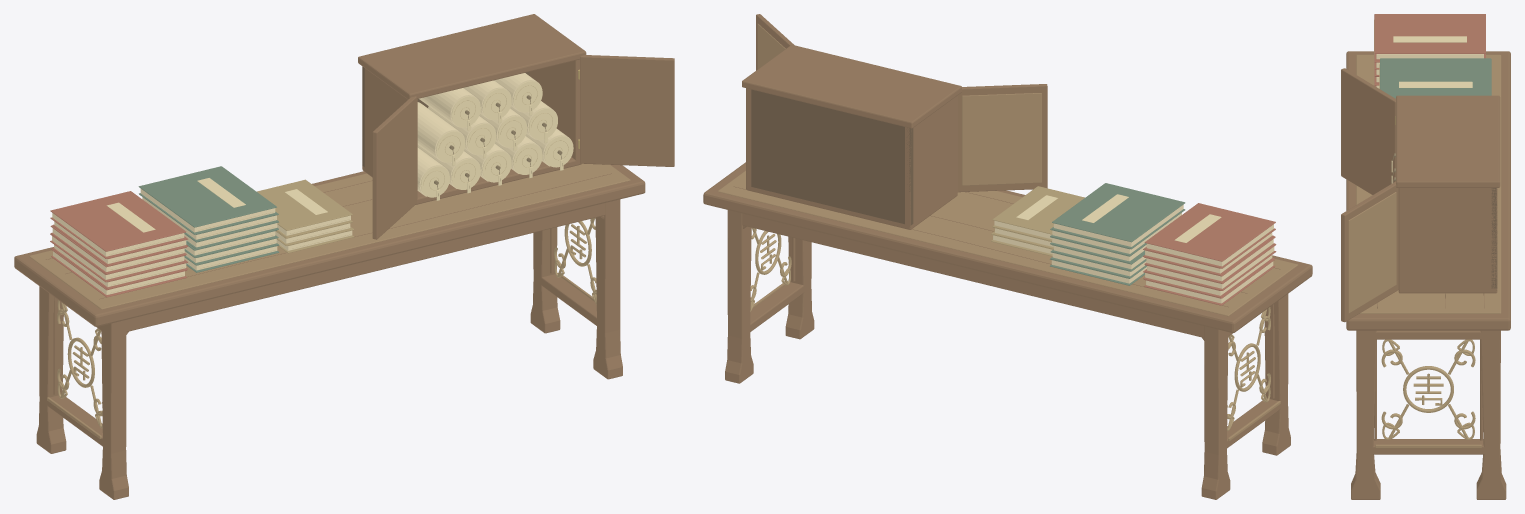
The model's file is writing-table-large-box.glb.
The picture shows the model from 3 angles, left to right: view 1: azimuth 30°, elevation 25°; view 2: azimuth 150°, elevation 25°; view 3: azimuth 270°, elevation 25°; orthographic projection. The views are drawn at different scales.
Visible parts, largest first — view 1: study_writing_table__wood, study_writing_table__paper_fine, study_writing_table__moulding_fine, study_writing_table__label_fine, study_writing_table__book_red_fine, study_writing_table__book_jade_fine, study_writing_table__book_ochre_fine, study_writing_table__carving_fine, study_writing_table__paper_edge_fine, study_writing_table__wood_fine; view 2: study_writing_table__wood, study_writing_table__moulding_fine, study_writing_table__recess, study_writing_table__paper_fine, study_writing_table__book_red_fine, study_writing_table__book_jade_fine, study_writing_table__carving_fine, study_writing_table__book_ochre_fine, study_writing_table__label_fine, study_writing_table__wood_fine; view 3: study_writing_table__wood, study_writing_table__moulding_fine, study_writing_table__book_red_fine, study_writing_table__book_jade_fine, study_writing_table__carving_fine, study_writing_table__label_fine, study_writing_table__paper_fine, study_writing_table__recess, study_writing_table__wood_fine.
Part boxes in pixels (x1,y1,x2,y2): study_writing_table__wood: [14, 14, 674, 499]; study_writing_table__paper_fine: [52, 73, 573, 294]; study_writing_table__moulding_fine: [29, 163, 630, 438]; study_writing_table__label_fine: [106, 81, 573, 232]; study_writing_table__book_red_fine: [50, 191, 188, 297]; study_writing_table__book_jade_fine: [138, 166, 279, 272]; study_writing_table__book_ochre_fine: [257, 179, 354, 253]; study_writing_table__carving_fine: [57, 217, 596, 428]; study_writing_table__paper_edge_fine: [109, 85, 568, 292]; study_writing_table__wood_fine: [46, 173, 611, 394]; study_writing_table__wood: [703, 14, 1312, 499]; study_writing_table__moulding_fine: [718, 24, 1297, 440]; study_writing_table__recess: [751, 89, 913, 225]; study_writing_table__paper_fine: [993, 204, 1274, 303]; study_writing_table__book_red_fine: [1143, 203, 1276, 305]; study_writing_table__book_jade_fine: [1050, 183, 1185, 285]; study_writing_table__carving_fine: [750, 228, 1270, 430]; study_writing_table__book_ochre_fine: [991, 186, 1084, 256]; study_writing_table__label_fine: [1016, 194, 1221, 242]; study_writing_table__wood_fine: [733, 186, 1280, 398]; study_writing_table__wood: [1341, 51, 1510, 499]; study_writing_table__moulding_fine: [1348, 54, 1501, 448]; study_writing_table__book_red_fine: [1374, 14, 1485, 86]; study_writing_table__book_jade_fine: [1380, 58, 1491, 98]; study_writing_table__carving_fine: [1381, 339, 1475, 439]; study_writing_table__label_fine: [1391, 36, 1472, 183]; study_writing_table__paper_fine: [1376, 54, 1483, 88]; study_writing_table__recess: [1491, 188, 1497, 288]; study_writing_table__wood_fine: [1374, 293, 1484, 440].
Bounding box in the file's own units: 2.44 × 1.26 × 0.619.
